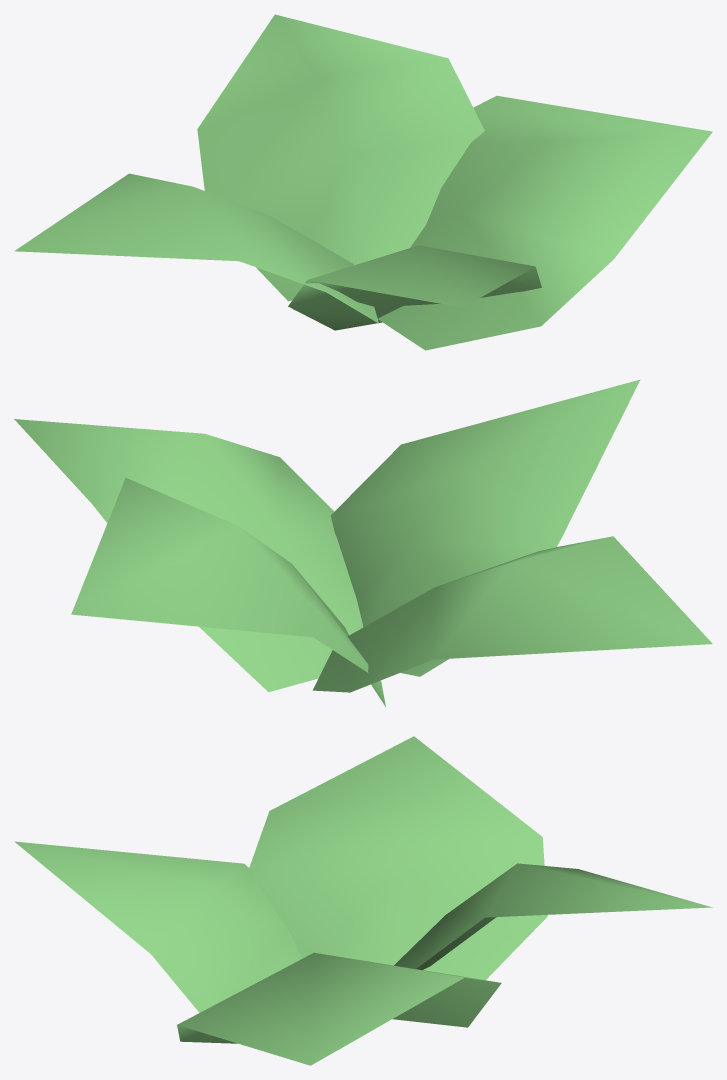
Rendered from gras_neu.fbx.
3 renders of one model, top to bottom at view 1: azimuth 30°, elevation 25°; view 2: azimuth 150°, elevation 25°; view 3: azimuth 270°, elevation 25°, orthographic. The views are drawn at different scales.
Parts seen in each view (by area): view 1: gras; view 2: gras; view 3: gras.
Boxes of the visible parts, left/top/right/bottom form: gras: left=14, top=14, right=712, bottom=350; gras: left=14, top=379, right=712, bottom=706; gras: left=14, top=736, right=712, bottom=1065.
Bounding box in the file's own units: 59.22 × 16.14 × 53.42.
